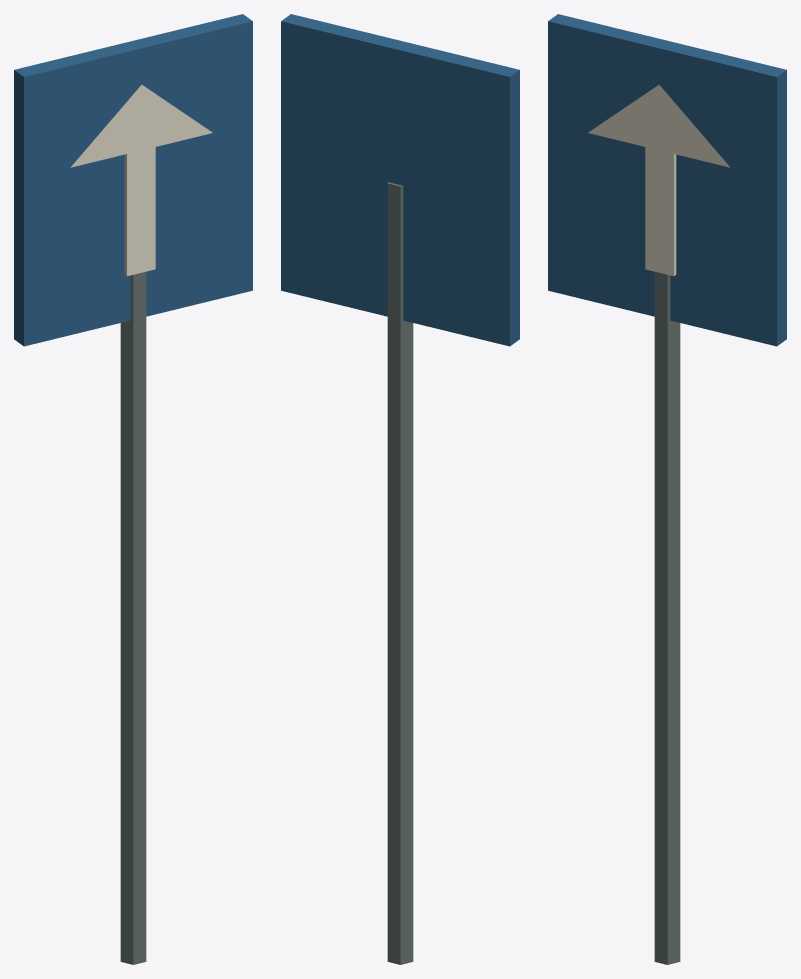
The model's file is OneWaySign.obj.
3 views of the same model, side by side, from view 1: azimuth 30°, elevation 25°; view 2: azimuth 150°, elevation 25°; view 3: azimuth 330°, elevation 25° (orthographic).
Visible parts, largest first — view 1: OneWaySign; view 2: OneWaySign; view 3: OneWaySign.
Boxes of the visible parts, x1=… form: OneWaySign: x1=14, y1=14, x2=252, y2=964; OneWaySign: x1=281, y1=14, x2=519, y2=964; OneWaySign: x1=548, y1=14, x2=786, y2=964.
Size of the model in its own units: 0.8 by 3.05 by 0.089.
